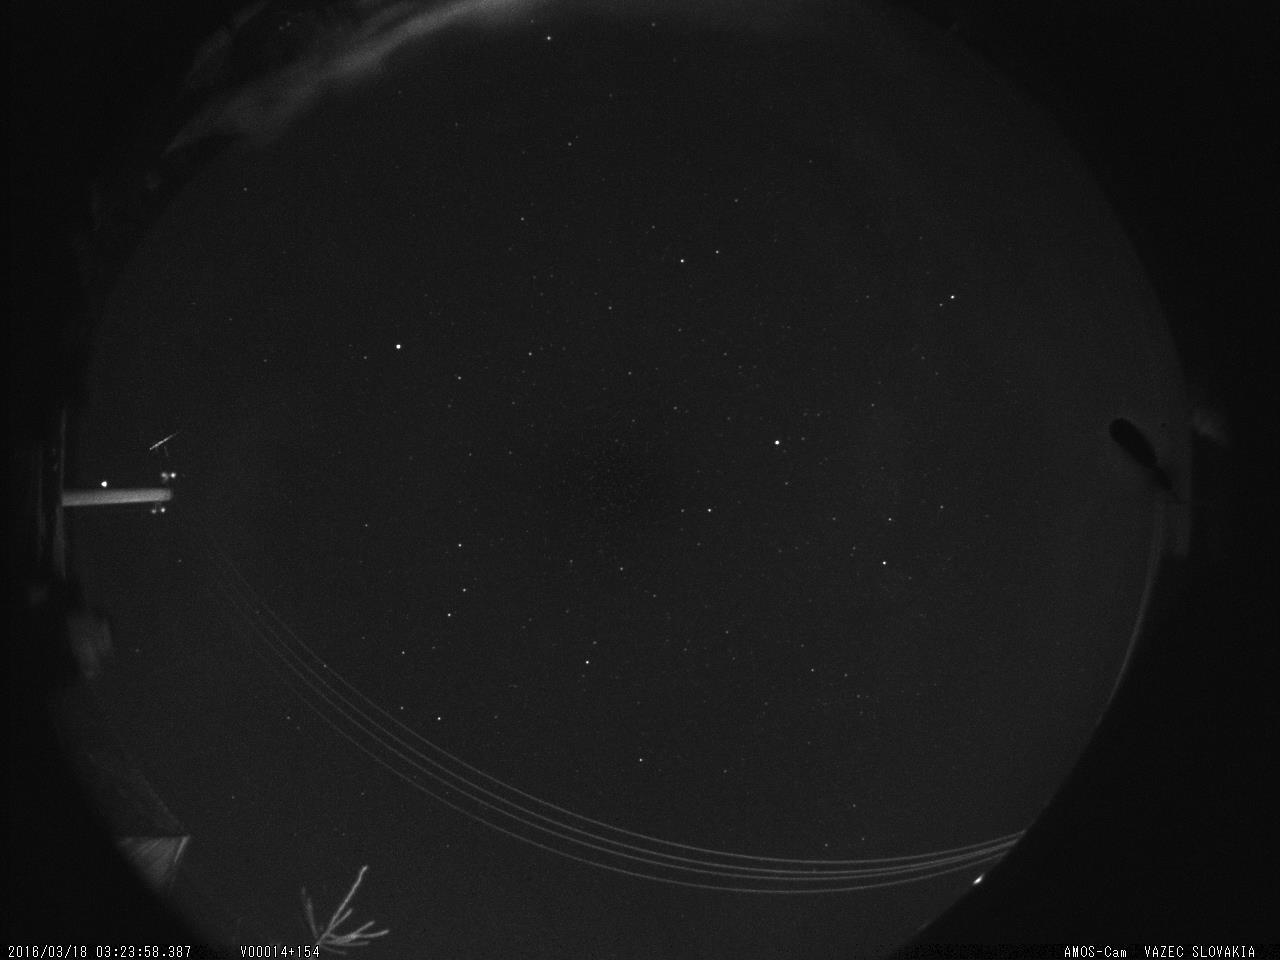Meteor: (142, 422, 188, 462)
